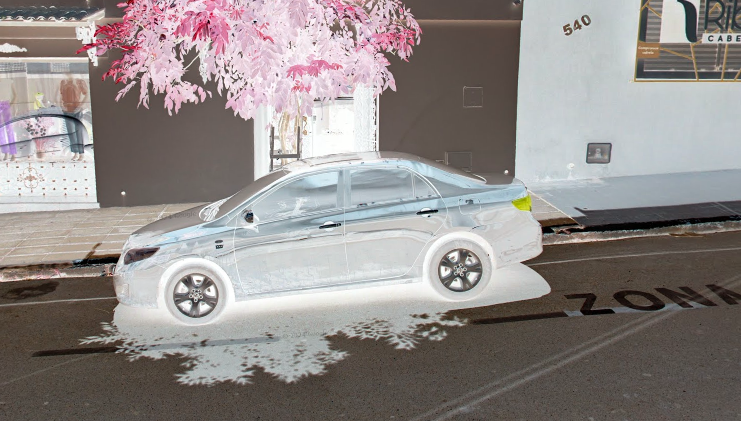car: (111, 147, 550, 330)
